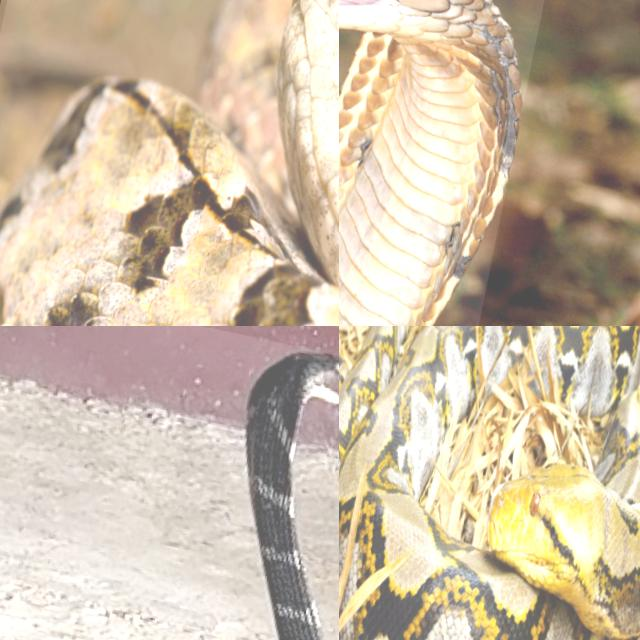Calloselasma rhodostoma: (0, 79, 338, 325)
Malayopython reticulatus: (339, 326, 639, 639)
Ophiophagus hannah: (339, 0, 521, 325), (245, 352, 338, 639)
